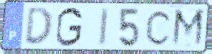5: (117, 7, 141, 49)
C: (144, 9, 174, 47)
D: (23, 6, 55, 48)
G: (55, 6, 85, 48)
I: (97, 7, 110, 48)
M: (170, 8, 206, 49)
